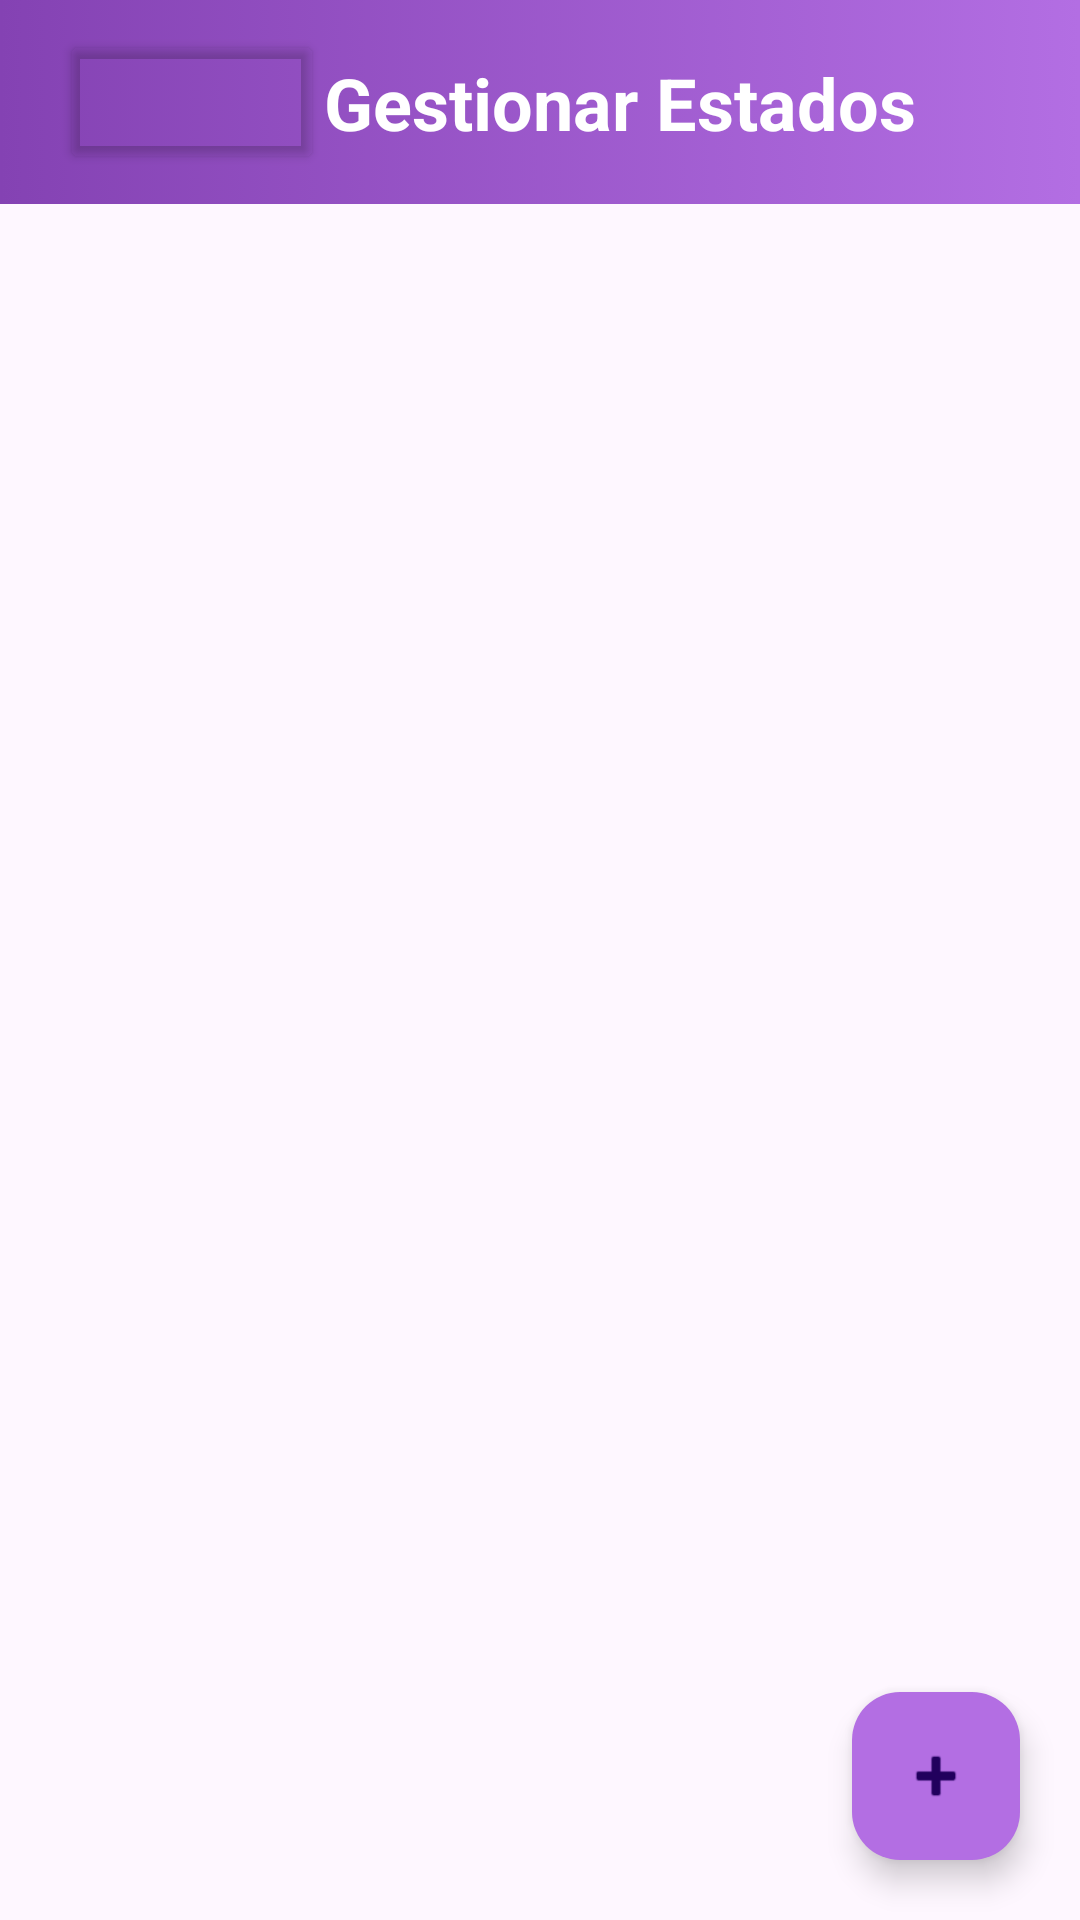

Where icons sit on this 1080 × 1920 app screen, as (x1, y1, x2, y2):
Agregar Estado: (852, 1692, 1020, 1860)
